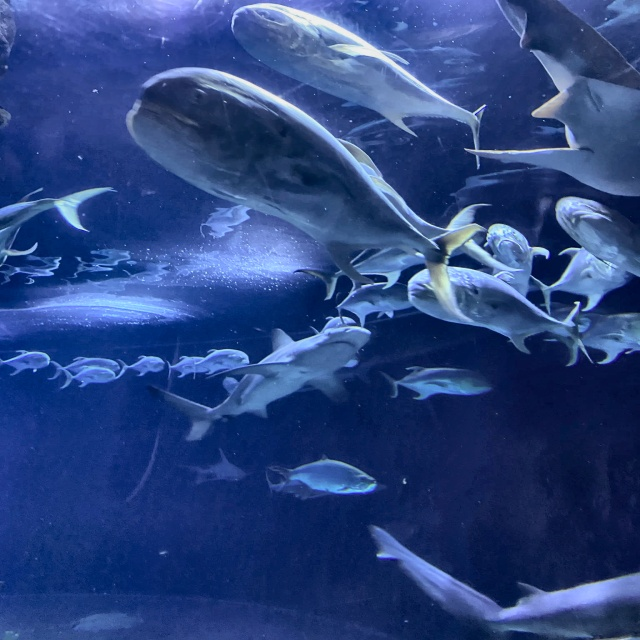fish: (129, 68, 483, 319), (232, 4, 487, 168), (408, 265, 584, 368), (0, 186, 113, 268), (298, 243, 441, 299), (534, 245, 639, 309), (556, 196, 639, 275), (545, 311, 639, 365), (484, 224, 548, 295), (268, 458, 378, 498), (383, 367, 488, 400), (336, 283, 413, 324), (47, 356, 124, 387), (0, 349, 50, 374), (197, 349, 248, 373), (165, 356, 207, 376), (125, 357, 164, 376)
shark: (462, 0, 639, 198), (372, 526, 639, 639), (145, 325, 369, 443), (193, 448, 245, 484)
